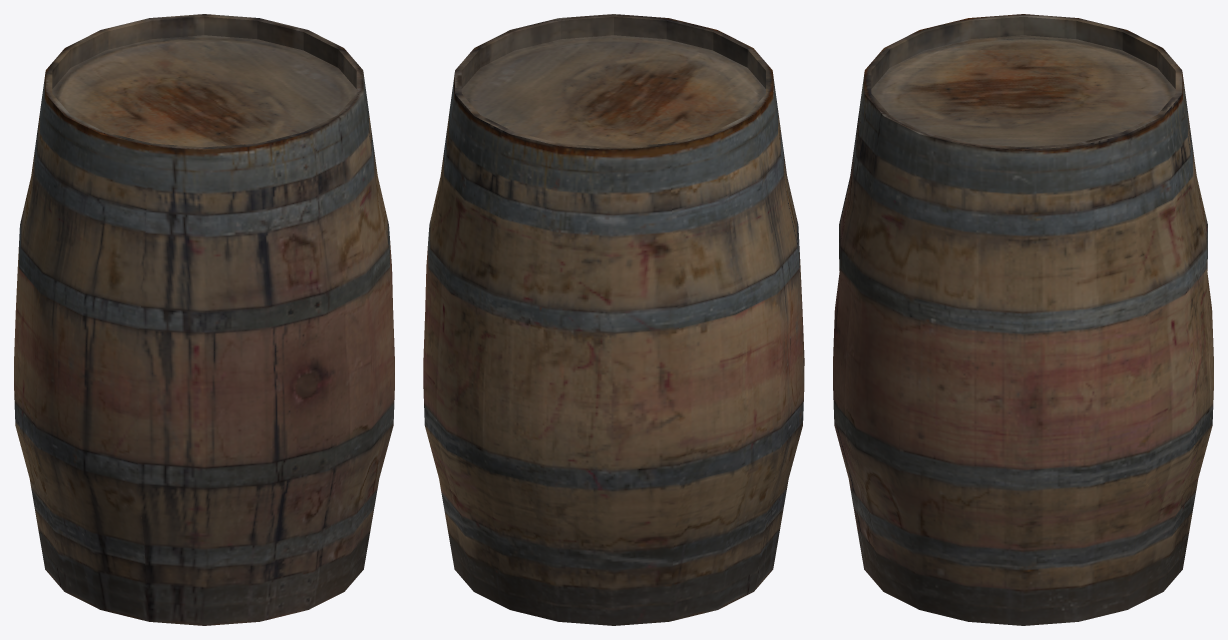
The model's file is OU_AR_Barrel_02_D.fbx.
3 renders of one model, left to right at view 1: azimuth 30°, elevation 25°; view 2: azimuth 150°, elevation 25°; view 3: azimuth 270°, elevation 25°, orthographic.
Visible parts, largest first — view 1: Cylinder484; view 2: Cylinder484; view 3: Cylinder484.
Boxes of the visible parts, <box> form: Cylinder484: <box>14,14,394,625</box>; Cylinder484: <box>423,14,804,625</box>; Cylinder484: <box>833,14,1213,625</box>.
Bounding box in the file's own units: 70.71 × 95.92 × 69.64.
Materials: 1 (1 with a texture image).
